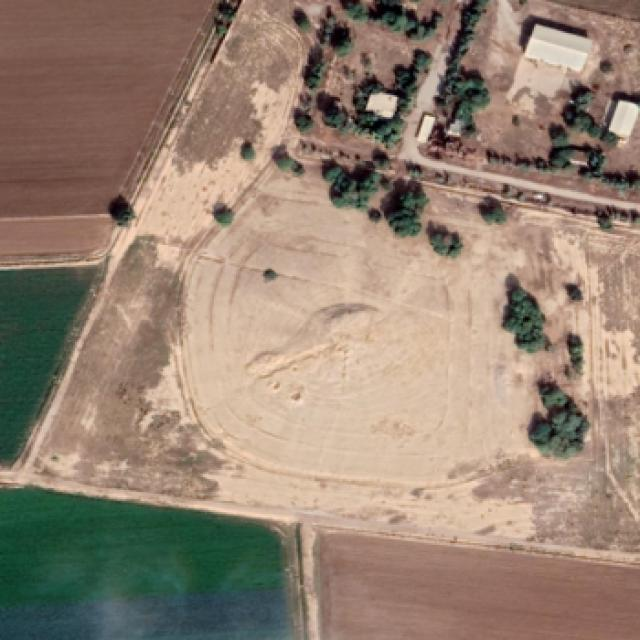ruins: (240, 234, 380, 294)
vegetation: (313, 27, 437, 152), (529, 88, 638, 196), (527, 382, 588, 459), (357, 0, 440, 42), (501, 280, 547, 353), (317, 13, 354, 60), (425, 221, 463, 259), (300, 44, 326, 89), (477, 195, 509, 226), (273, 144, 304, 175), (108, 194, 136, 226), (566, 333, 585, 373), (212, 203, 235, 226), (564, 282, 584, 302), (239, 140, 256, 161)
